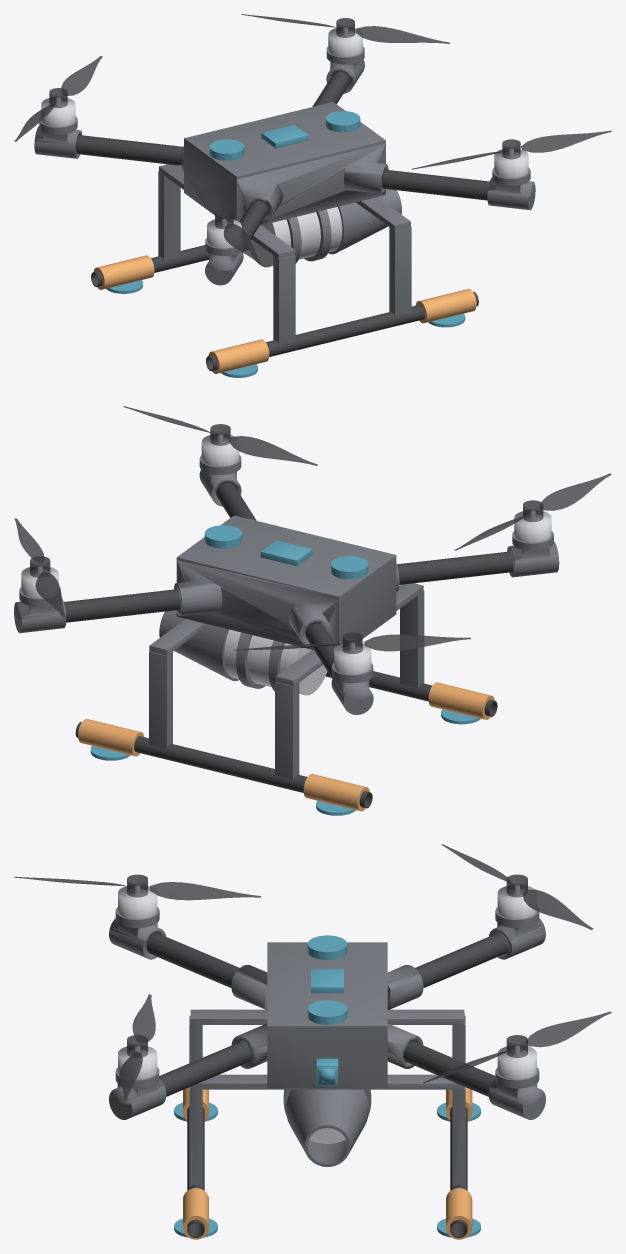
The model's file is heracles.glb.
The picture shows the model from 3 angles, top to bottom: view 1: azimuth 30°, elevation 25°; view 2: azimuth 150°, elevation 25°; view 3: azimuth 270°, elevation 25°; orthographic projection. The views are drawn at different scales.
Visible parts, largest first — view 1: Heracles V1; view 2: Heracles V1; view 3: Heracles V1.
Part boxes in pixels (x1,y1,x2,y2): Heracles V1: (14,14,611,377); Heracles V1: (14,406,611,815); Heracles V1: (14,844,611,1239).
Size of the model in its own units: 0.5532 by 0.2132 by 0.5456.
